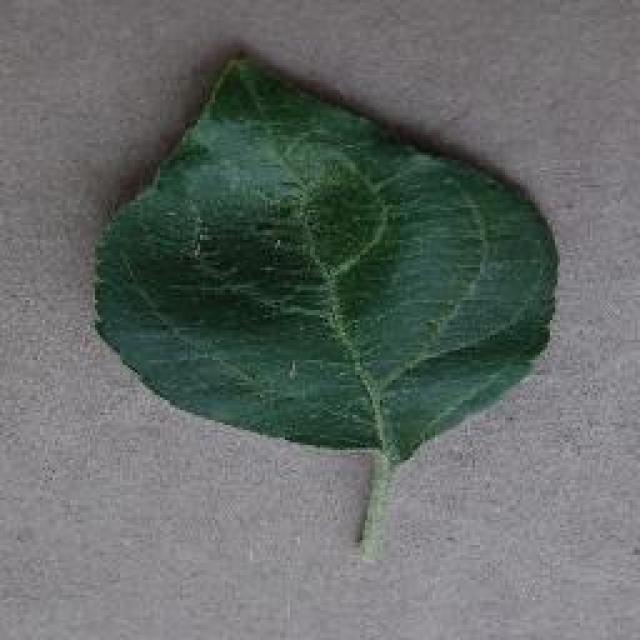apple healthy: (90, 48, 560, 560)
